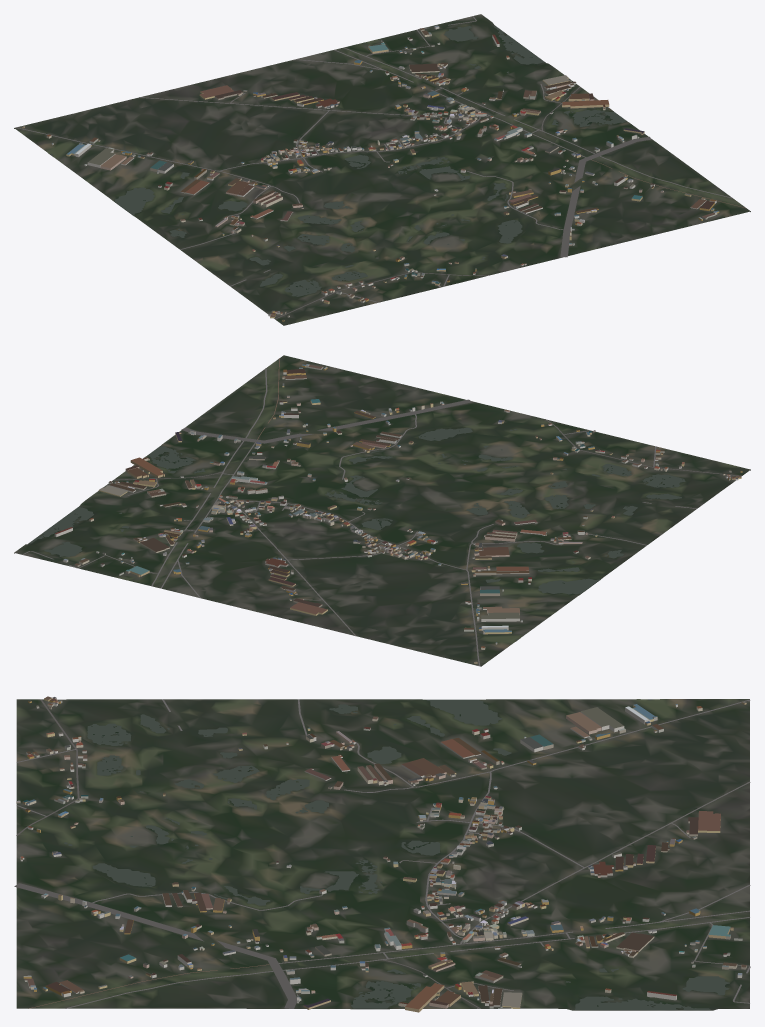
3 views of the same model, one above another, from view 1: azimuth 30°, elevation 25°; view 2: azimuth 150°, elevation 25°; view 3: azimuth 270°, elevation 25° (orthographic). The views are drawn at different scales.
Parts seen in each view (by area): view 1: ground, buildings, water, roads; view 2: ground, buildings, water, roads; view 3: ground, buildings, water, roads.
Part boxes in pixels (x1,y1,x2,y2): ground: (14,14,750,325); buildings: (22,25,719,321); water: (50,26,625,296); roads: (15,16,746,319); ground: (14,355,750,666); buildings: (54,364,742,663); water: (29,427,685,640); roads: (22,358,741,666); ground: (16,699,749,1010); buildings: (16,696,746,1012); water: (64,699,729,1009); roads: (14,699,750,1008).
Size of the model in its own units: 1424 by 16.74 by 1409.
